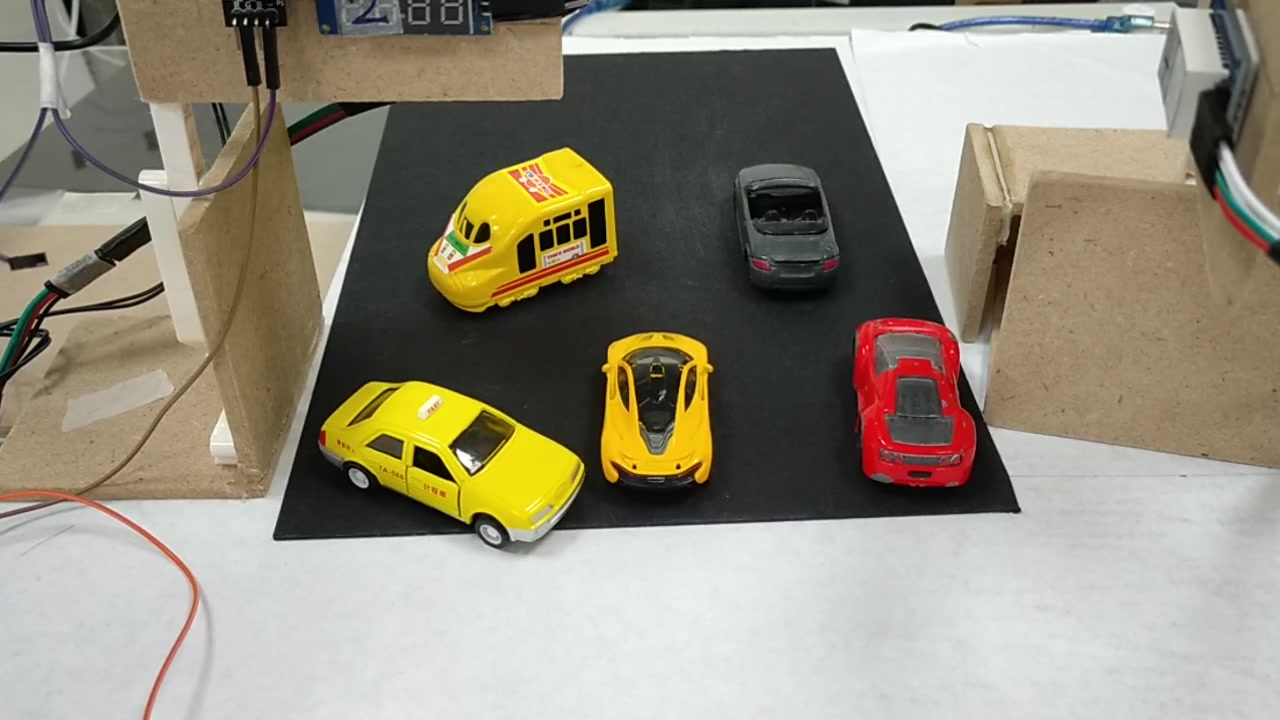car: (314, 376, 582, 552), (857, 317, 979, 488), (726, 165, 841, 300), (604, 338, 707, 488)
